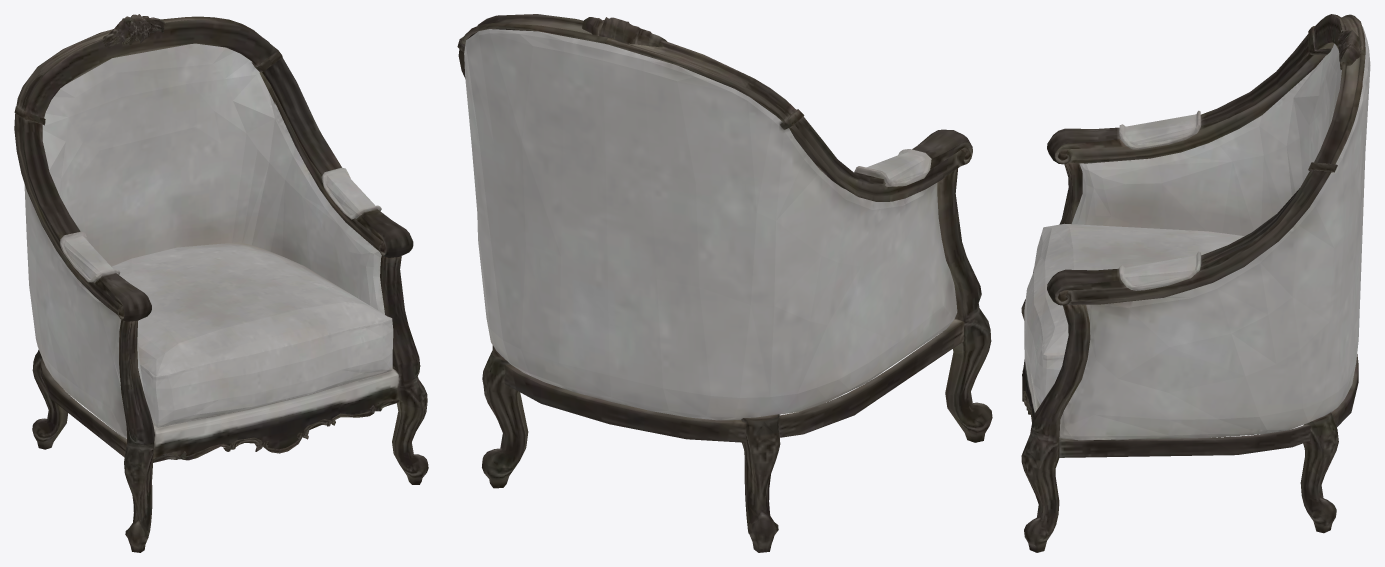
The picture shows the model from 3 angles, left to right: view 1: azimuth 30°, elevation 25°; view 2: azimuth 150°, elevation 25°; view 3: azimuth 270°, elevation 25°; orthographic projection. The views are drawn at different scales.
Visible parts, largest first — view 1: ArmChair_01; view 2: ArmChair_01; view 3: ArmChair_01.
Boxes of the visible parts, box(x1,y1,x2,y2) form: ArmChair_01: box(14, 14, 428, 552); ArmChair_01: box(457, 14, 992, 552); ArmChair_01: box(1021, 14, 1370, 552).
Size of the model in its own units: 0.8483 by 1.06 by 0.7657.
1 material, 1 textured.
